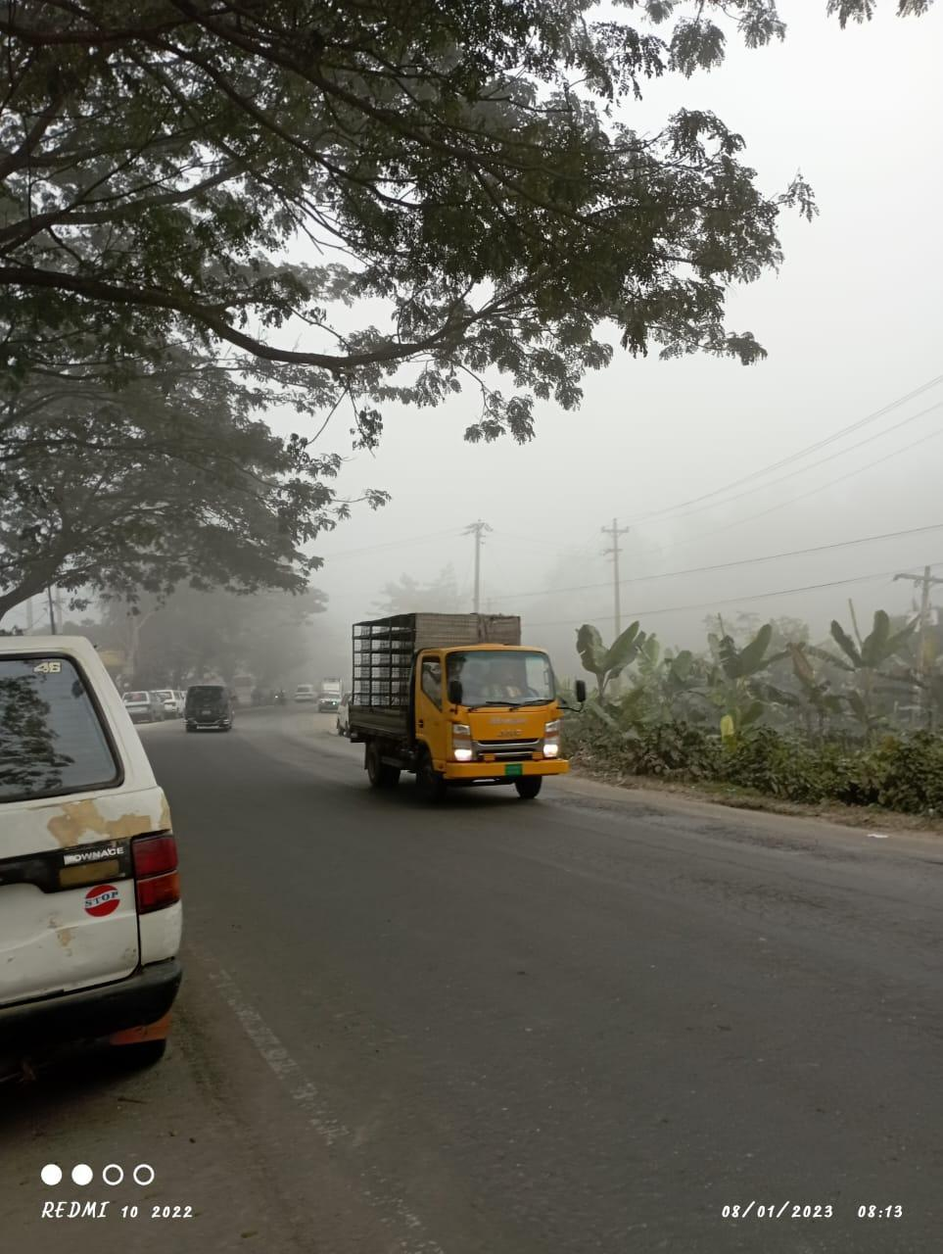Car: (2, 616, 196, 1086), (181, 677, 241, 737)
Truck: (339, 600, 580, 811)
